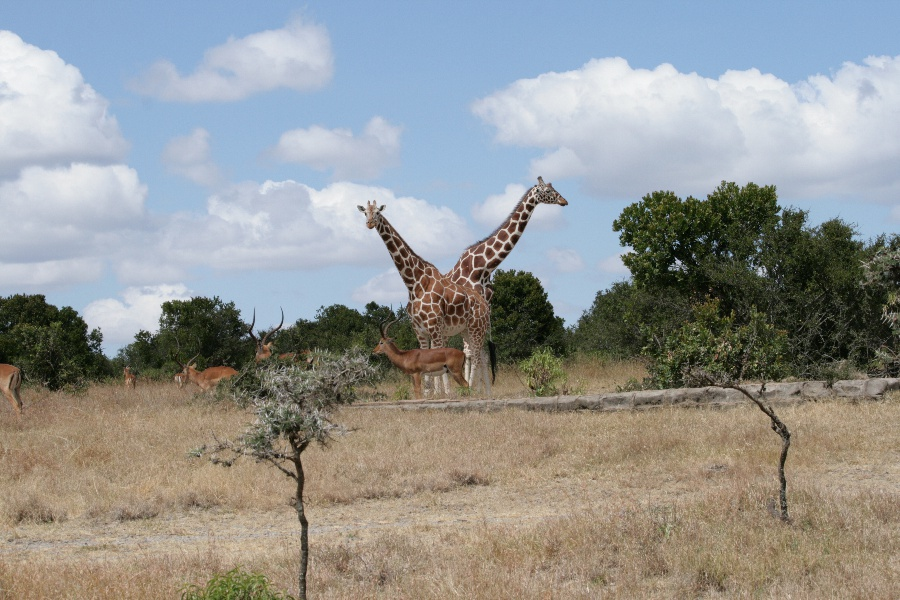giraffe: (353, 195, 497, 393), (452, 169, 574, 293)
